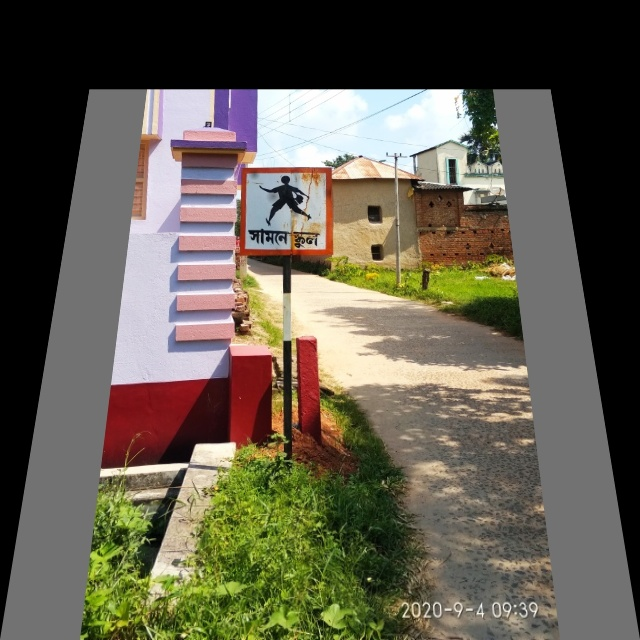School_Ahead: (242, 167, 331, 252)
